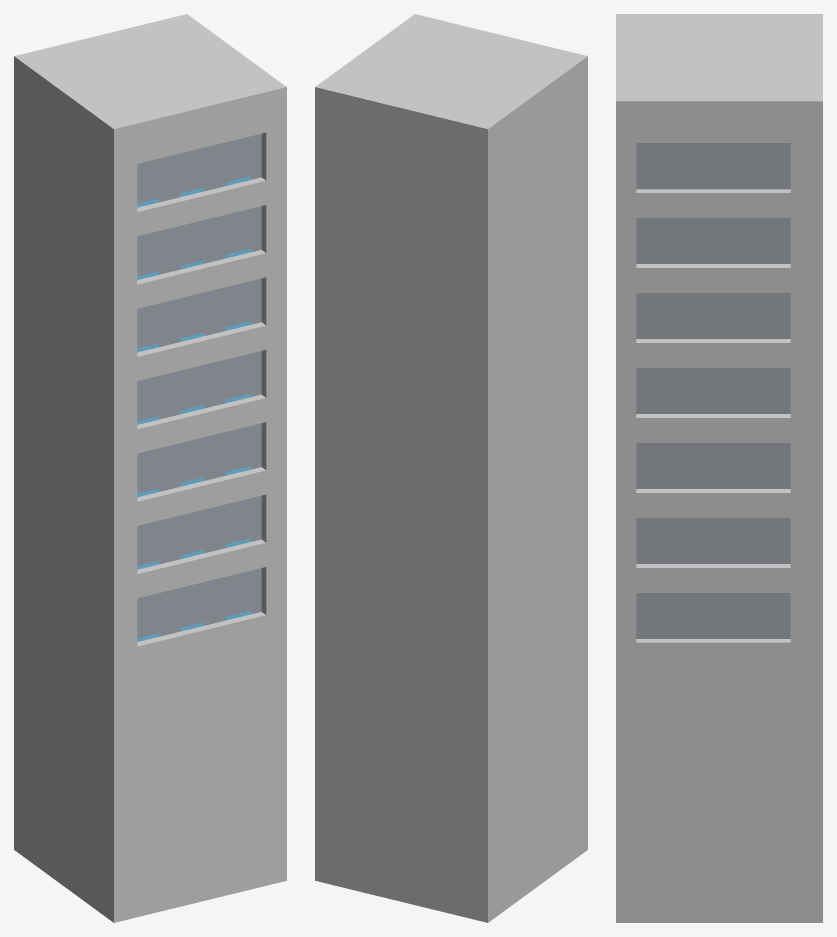
The model's file is B2Building.fbx.
3 renders of one model, left to right at view 1: azimuth 30°, elevation 25°; view 2: azimuth 150°, elevation 25°; view 3: azimuth 270°, elevation 25°, orthographic. The views are drawn at different scales.
Visible parts, largest first — view 1: Cube; view 2: Cube; view 3: Cube.
Boxes of the visible parts, box(x1,y1,x2,y2) form: Cube: box(14, 14, 286, 922); Cube: box(315, 14, 587, 922); Cube: box(616, 14, 822, 922).
Bounding box in the file's own units: 200 × 877 × 200.
Materials: 2 (1 with a texture image).
